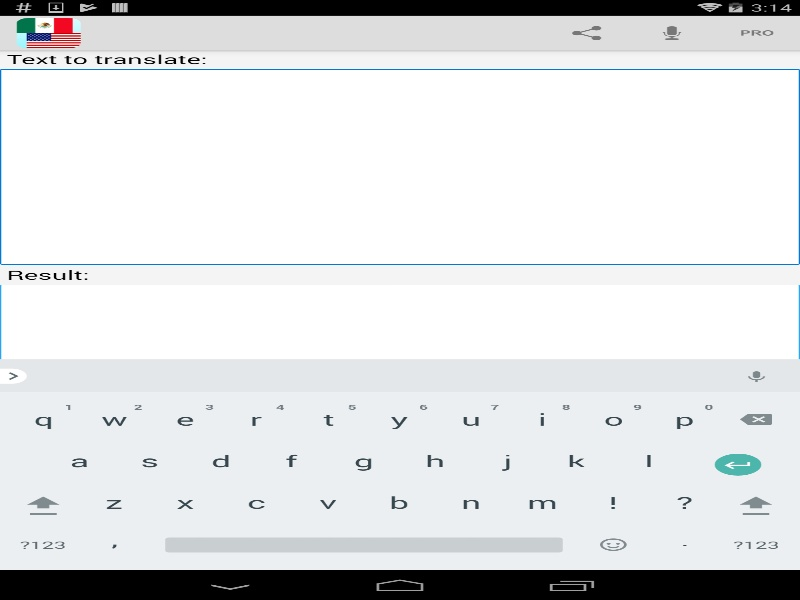Button: (3, 509, 396, 542), (403, 509, 796, 542)
Input: (0, 69, 800, 264)
